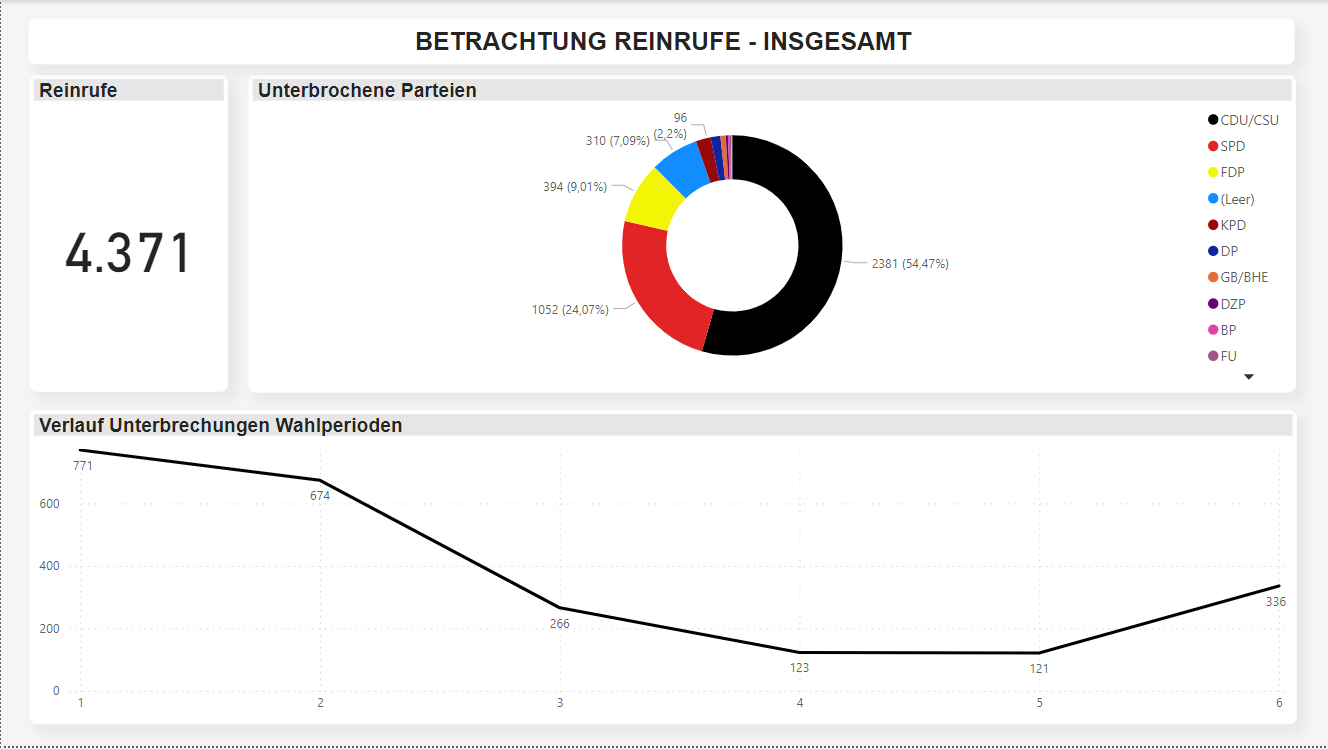

Layout of this report page (visuals, bound fields, positions):
{"tool":"powerbi","page":{"name":"Reinrufe","canvas":[1280,720],"ordinal":8},"visuals":[{"type":"lineChart","title":"Verlauf Unterbrechungen Wahlperioden","fields":{"Category":["RB-KO.WAHLPERIODE"],"Y":["Measure_Table.Kommentare"]},"box":[27.3,395.4,1222.4,303],"z":0},{"type":"donutChart","title":"Unterbrochene Parteien","fields":{"Category":["RB-KO.PARTEI_KURZ"],"Y":["CountNonNull(RB-KO.RB_ID)"]},"box":[238.8,72.4,1010.7,306.3],"z":1000},{"type":"card","title":"Reinrufe","fields":{"Values":["Measure_Table.Kommentare"]},"box":[27.3,72.7,190.9,306],"z":2000},{"type":"textbox","box":[26.6,17.5,1222,43.8],"z":3000}]}

Visuals, with their boxes in screenshot pixels (x1, y1, x2, y2), scaled from the page's 1280x720 canvas onto the 1328x749 screenshot:
"Verlauf Unterbrechungen Wahlperioden" lineChart: [left=28, top=411, right=1297, bottom=727]
"Unterbrochene Parteien" donutChart: [left=248, top=75, right=1296, bottom=394]
"Reinrufe" card: [left=28, top=76, right=226, bottom=394]
textbox: [left=28, top=18, right=1295, bottom=64]
